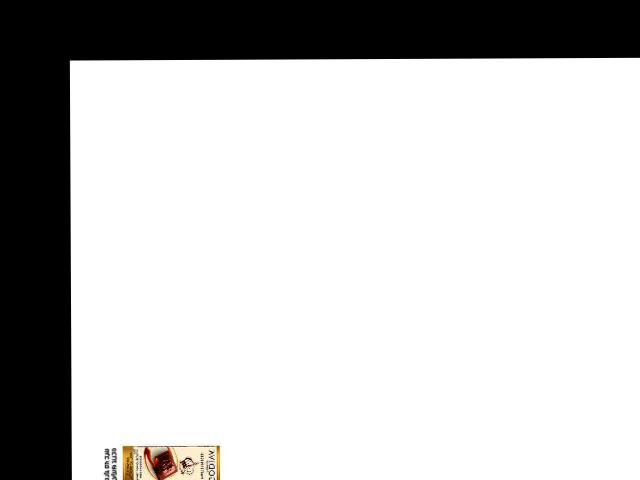chocolate: (119, 442, 222, 480)
